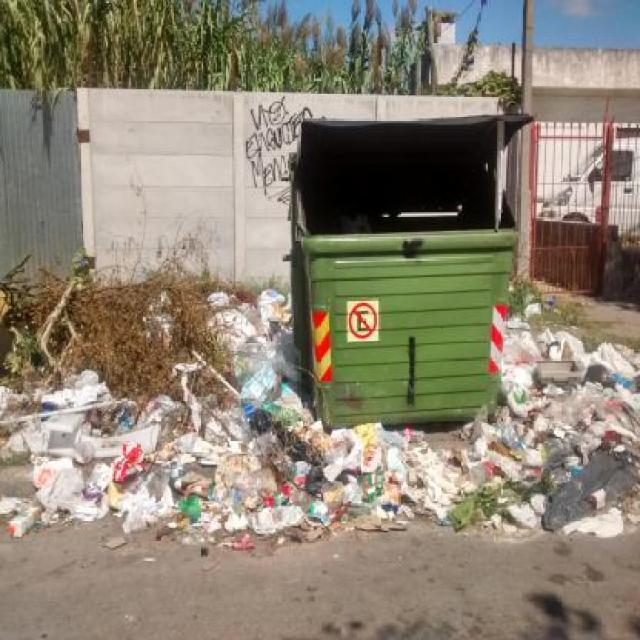garbage: (12, 379, 400, 534), (408, 417, 639, 528), (506, 308, 639, 420), (213, 289, 300, 373)
